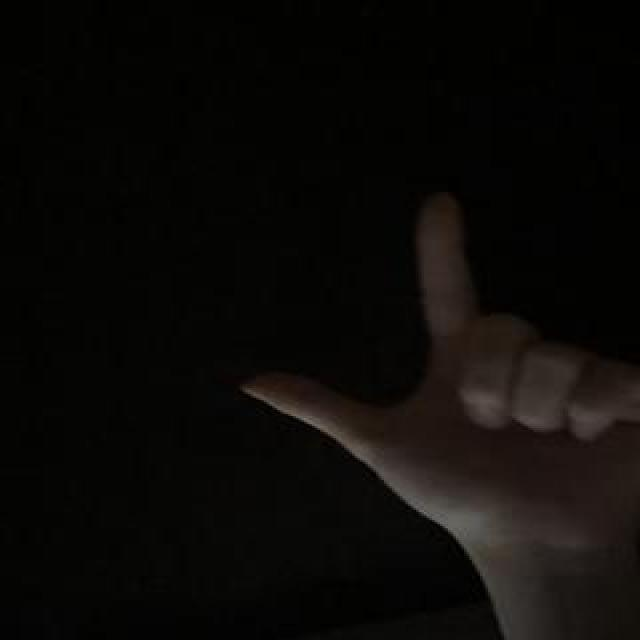L: (221, 151, 632, 625)
